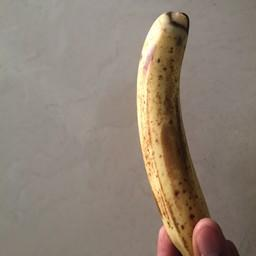Banana Ripe: (125, 1, 237, 254)
